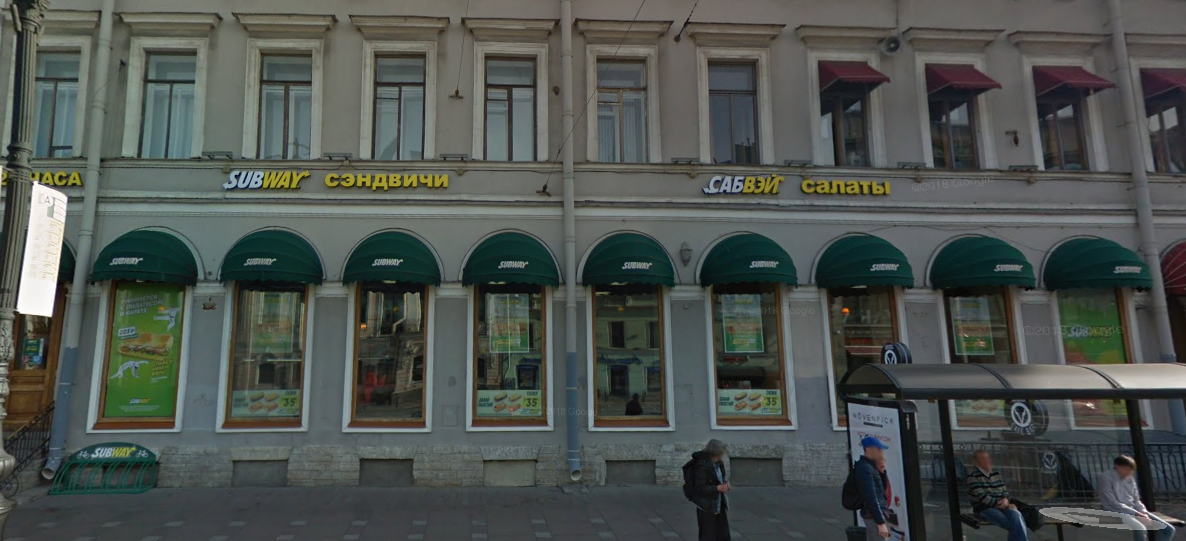signboard: (699, 163, 893, 198), (219, 162, 452, 190), (18, 161, 87, 188)
window: (91, 281, 187, 423), (473, 287, 549, 429), (715, 292, 794, 427), (228, 287, 304, 427), (352, 288, 425, 423), (591, 290, 656, 427), (594, 53, 652, 166), (253, 50, 313, 157), (141, 46, 197, 155), (481, 57, 540, 160), (370, 51, 426, 158), (707, 59, 759, 161), (945, 297, 1017, 365), (829, 294, 892, 362), (933, 103, 985, 171), (1040, 111, 1092, 175), (821, 97, 868, 167)
